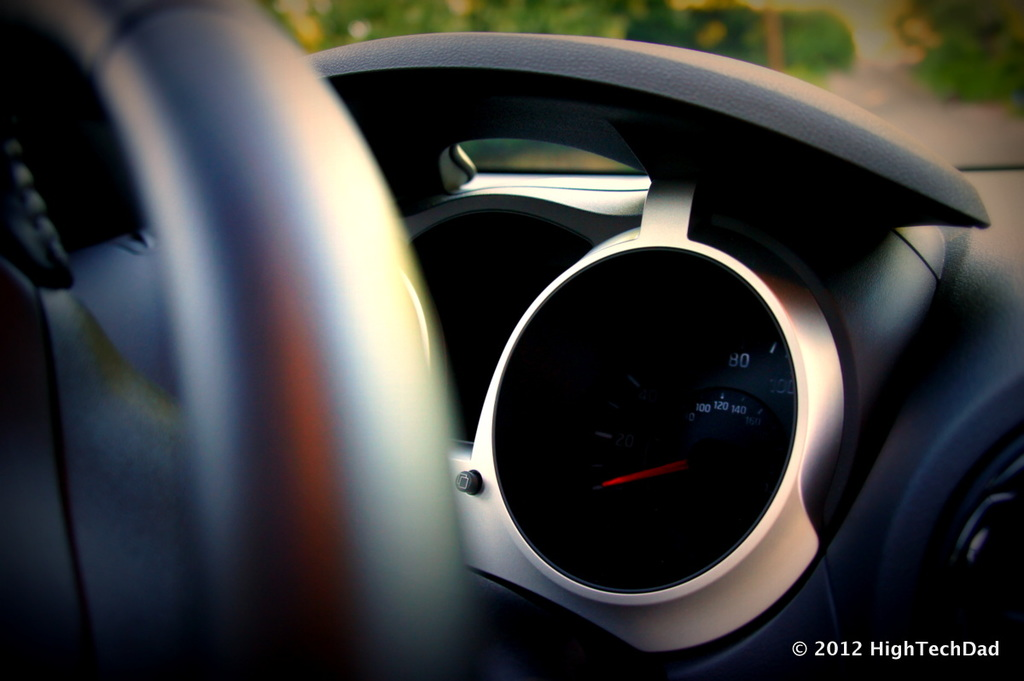Car: (91, 0, 1024, 681)
